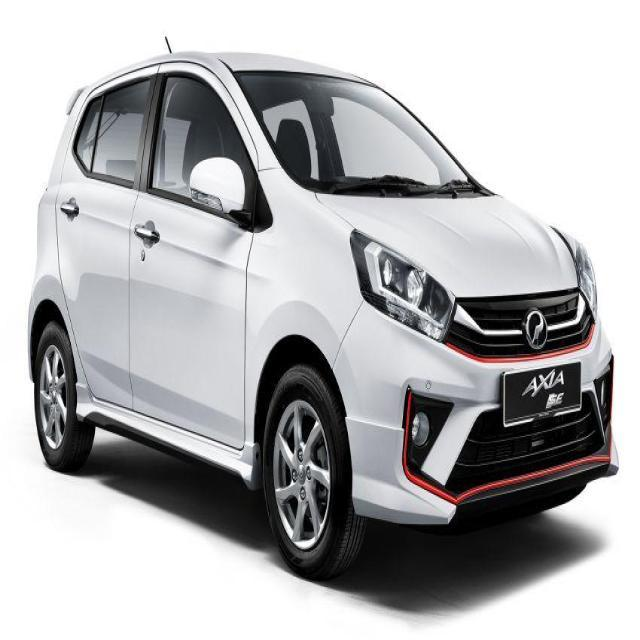PeroduaAxia: (26, 36, 619, 581)
